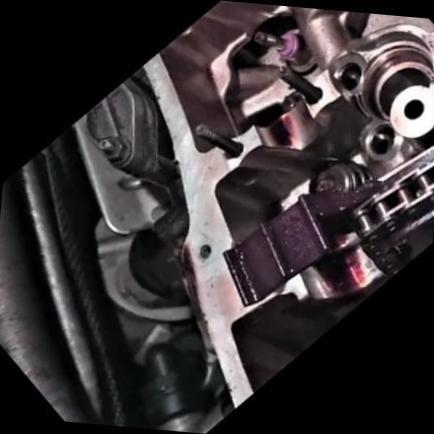hole: (195, 240, 217, 262)
